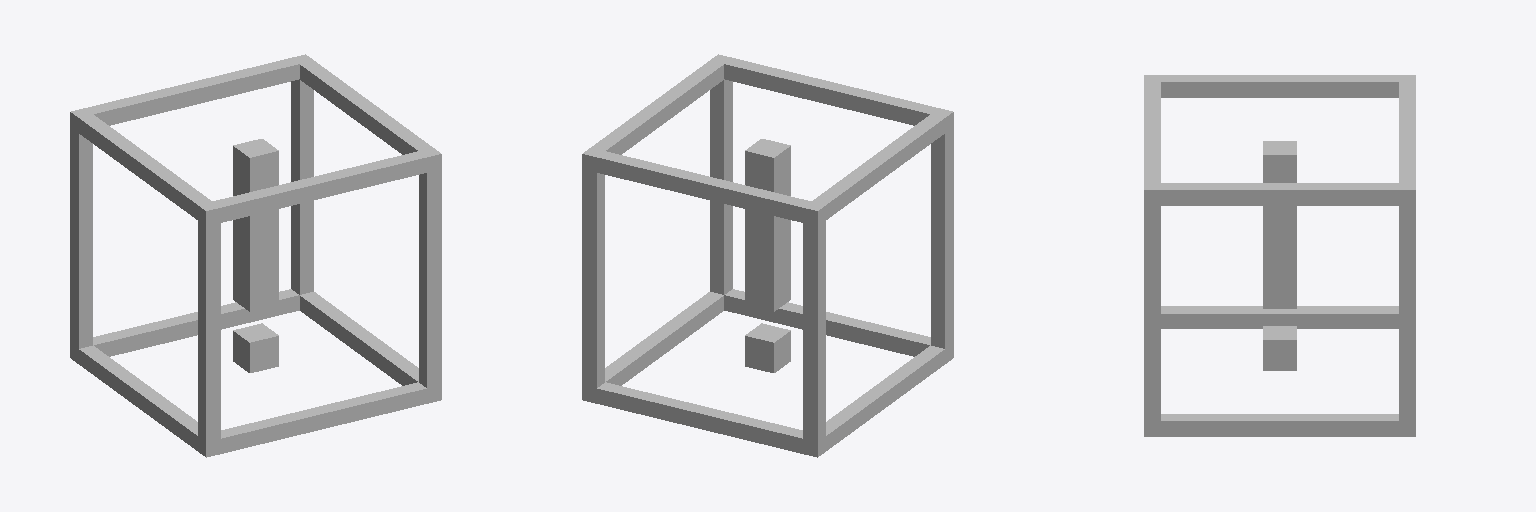
The model's file is ml_blockbase.obj.
3 views of the same model, side by side, from view 1: azimuth 30°, elevation 25°; view 2: azimuth 150°, elevation 25°; view 3: azimuth 270°, elevation 25° (orthographic).
Visible parts, largest first — view 1: ml_blockbase.003; view 2: ml_blockbase.003; view 3: ml_blockbase.003.
Boxes of the visible parts, box(x1,y1,x2,y2) form: ml_blockbase.003: box(70, 54, 441, 457); ml_blockbase.003: box(582, 54, 953, 457); ml_blockbase.003: box(1144, 75, 1415, 436).
Bounding box in the file's own units: 0.8 × 0.8 × 0.8.